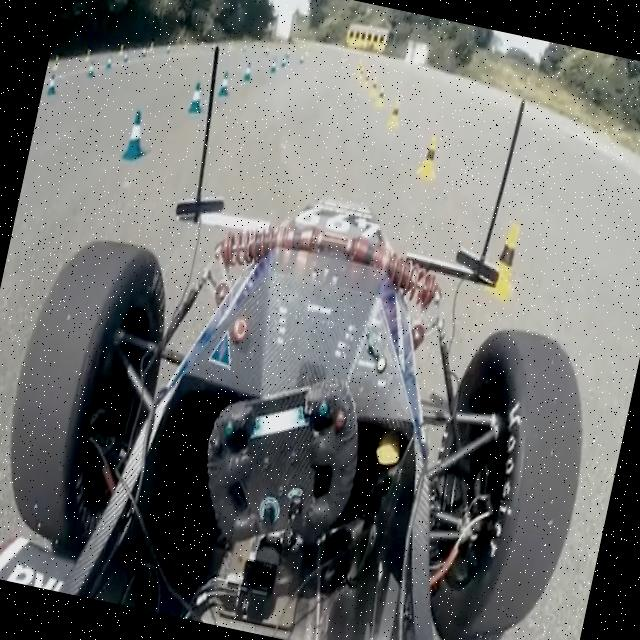blue_cone: (120, 107, 154, 164), (186, 78, 208, 116), (216, 69, 234, 98)
yellow_cone: (478, 215, 528, 302), (412, 130, 448, 184), (384, 96, 406, 130)
